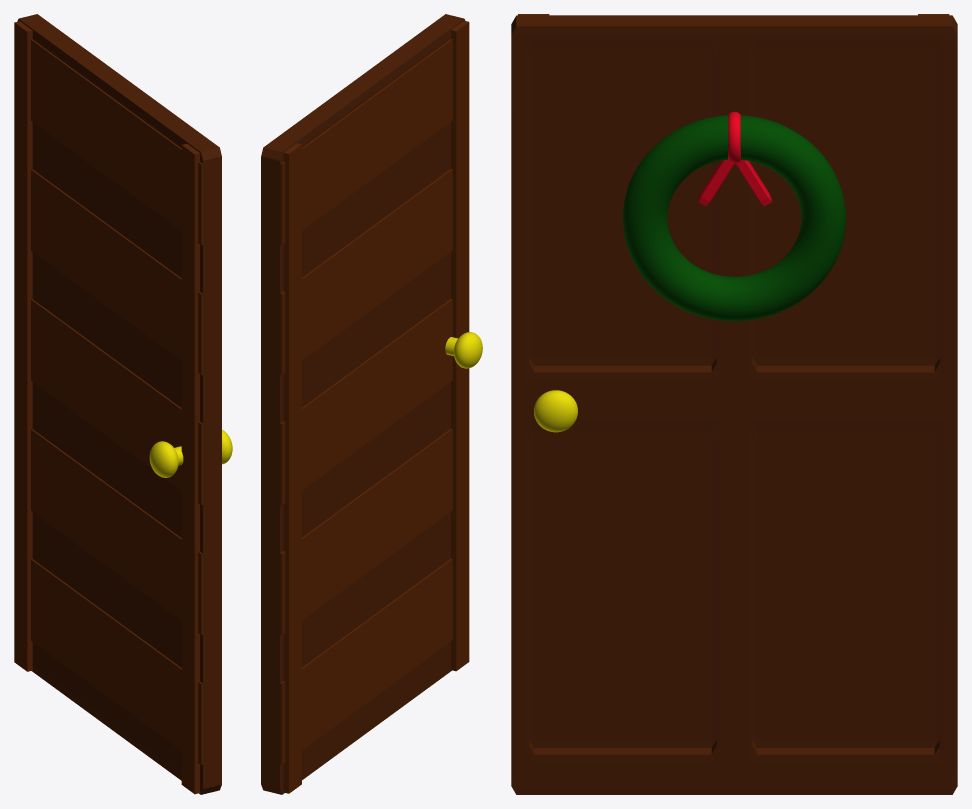
File: Правая дверь для домика.fbx
3 views of the same model, side by side, from view 1: azimuth 30°, elevation 25°; view 2: azimuth 150°, elevation 25°; view 3: azimuth 270°, elevation 25° (orthographic). The views are drawn at different scales.
Parts seen in each view (by area): view 1: Cube; view 2: Cube; view 3: Cube.
Part boxes in pixels (x1,y1,x2,y2): Cube: [14, 14, 232, 794]; Cube: [261, 14, 482, 794]; Cube: [511, 14, 957, 794].
Bounding box in the file's own units: 52.94 × 380 × 200.
